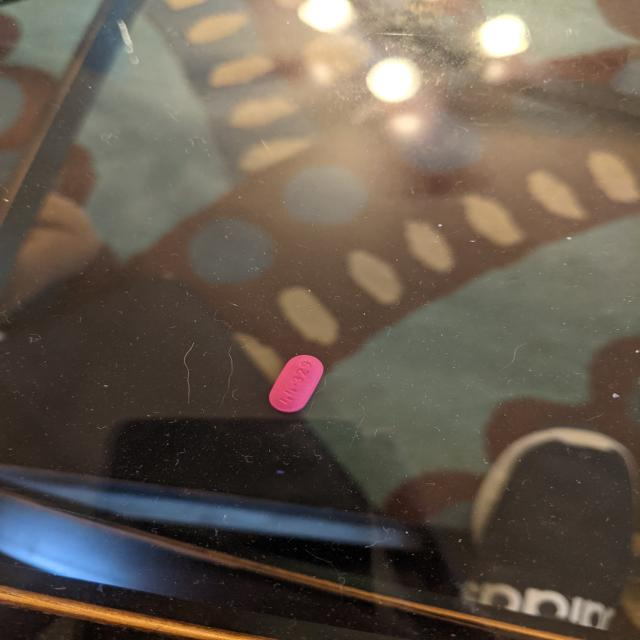non-organic waste: (268, 354, 326, 414)
